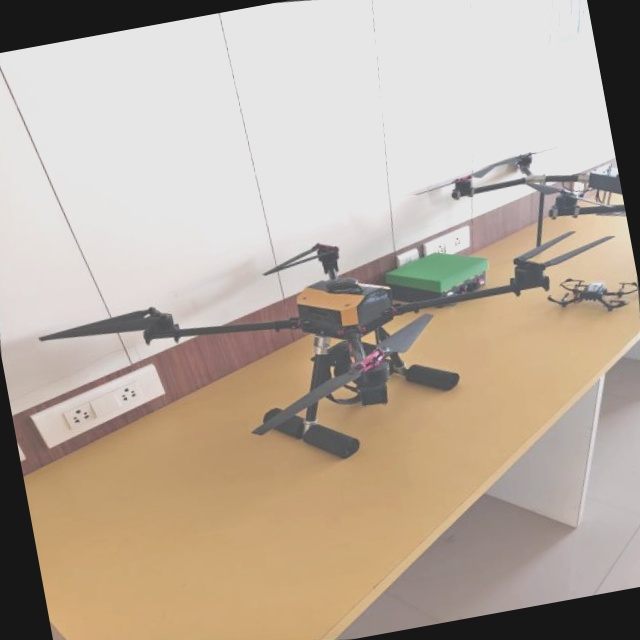quadcopter: (0, 142, 640, 543)
